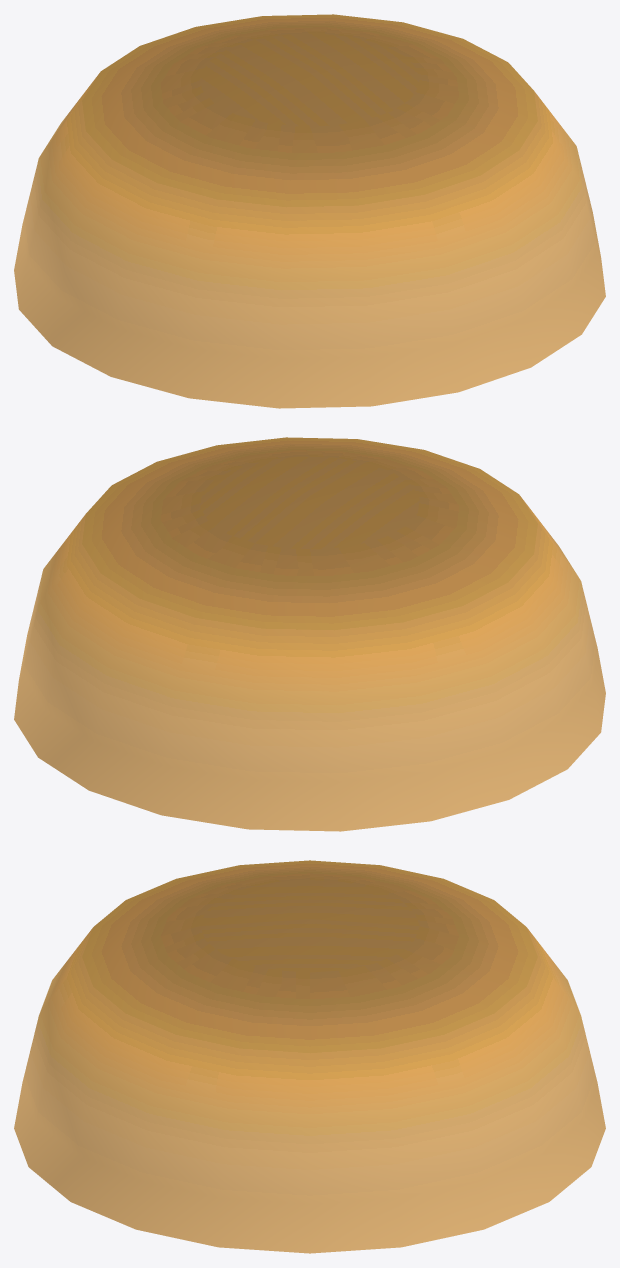
Rendered from stage-cast-sky.glb.
The picture shows the model from 3 angles, top to bottom: view 1: azimuth 30°, elevation 25°; view 2: azimuth 150°, elevation 25°; view 3: azimuth 270°, elevation 25°; orthographic projection.
Parts seen in each view (by area): view 1: sky; view 2: sky; view 3: sky.
Part boxes in pixels (x1,y1,x2,y2): sky: (14, 14, 605, 408); sky: (14, 437, 605, 831); sky: (14, 860, 605, 1253).
Bounding box in the file's own units: 3660 × 1428 × 3660.
Materials: 4 (4 with a texture image).
